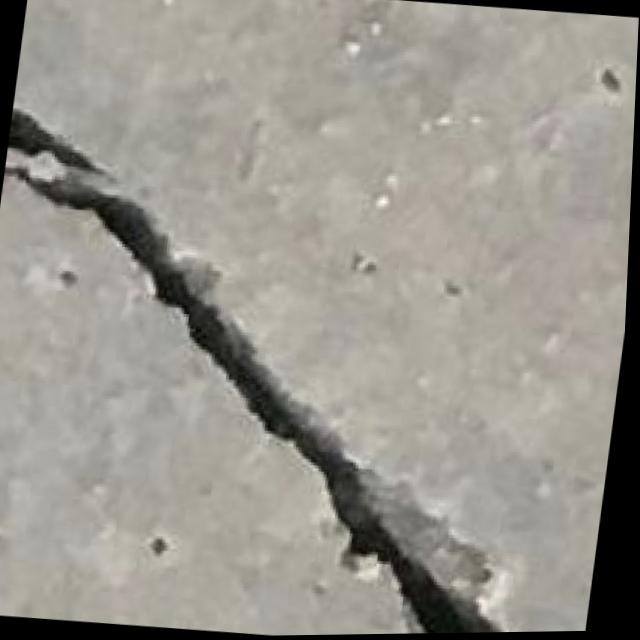Crack: (0, 82, 609, 640)
